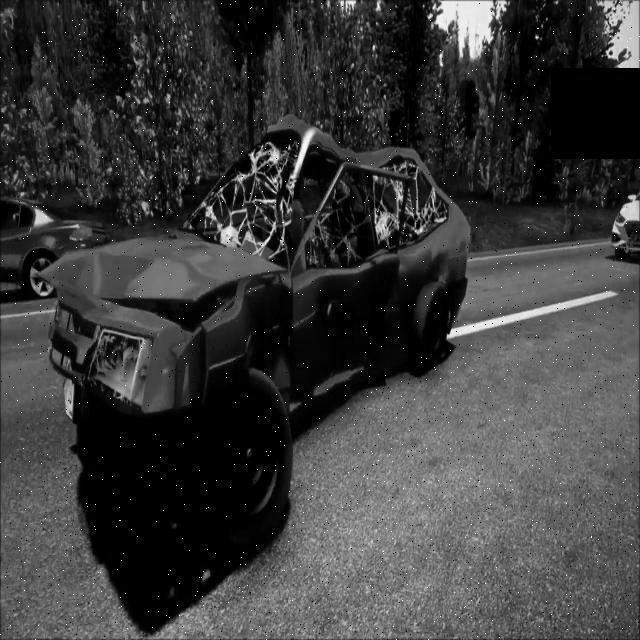accident: (33, 107, 471, 563)
vehicle: (4, 179, 101, 293), (611, 168, 639, 264)
